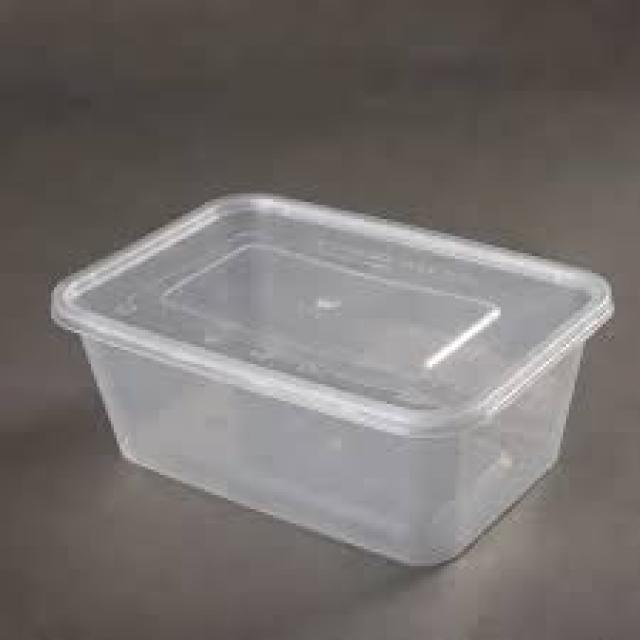disposable: (59, 180, 630, 577)
